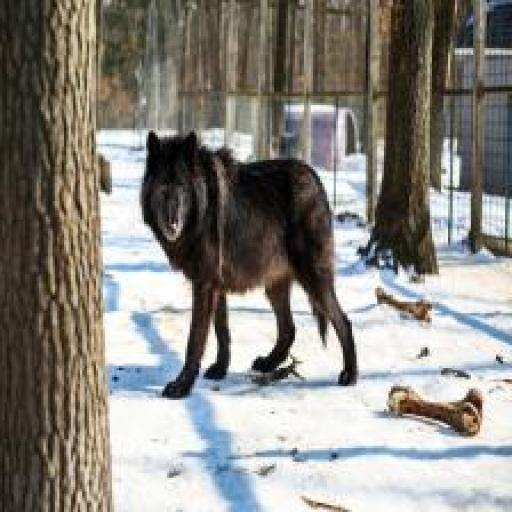wolf: (112, 101, 377, 426)
